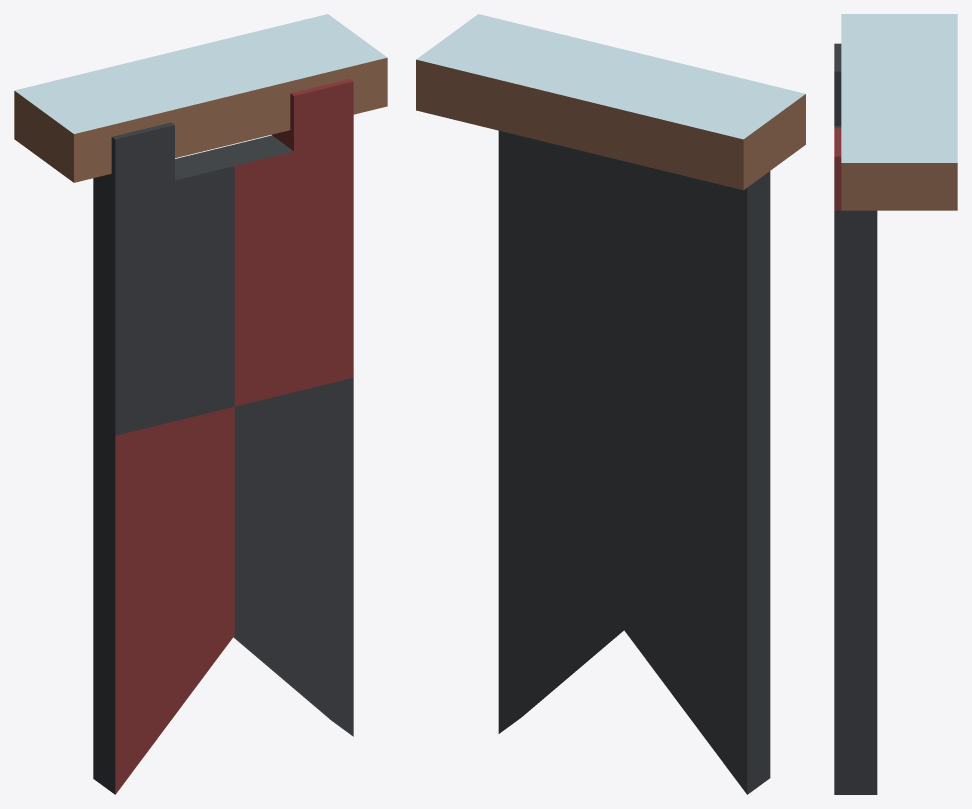
Rendered from SM_Bld_Knights_Castle_Flag_02_Snow.fbx.
3 renders of one model, left to right at view 1: azimuth 30°, elevation 25°; view 2: azimuth 150°, elevation 25°; view 3: azimuth 270°, elevation 25°, orthographic. The views are drawn at different scales.
Parts seen in each view (by area): view 1: SM_Bld_Knights_Castle_Flag_02_Snow; view 2: SM_Bld_Knights_Castle_Flag_02_Snow; view 3: SM_Bld_Knights_Castle_Flag_02_Snow.
Boxes of the visible parts, x1,y1,x2,y2 form: SM_Bld_Knights_Castle_Flag_02_Snow: [14, 14, 387, 794]; SM_Bld_Knights_Castle_Flag_02_Snow: [416, 14, 805, 794]; SM_Bld_Knights_Castle_Flag_02_Snow: [834, 14, 957, 794].
Bounding box in the file's own units: 36.64 × 74.48 × 12.82.
Materials: 1 (1 with a texture image).
